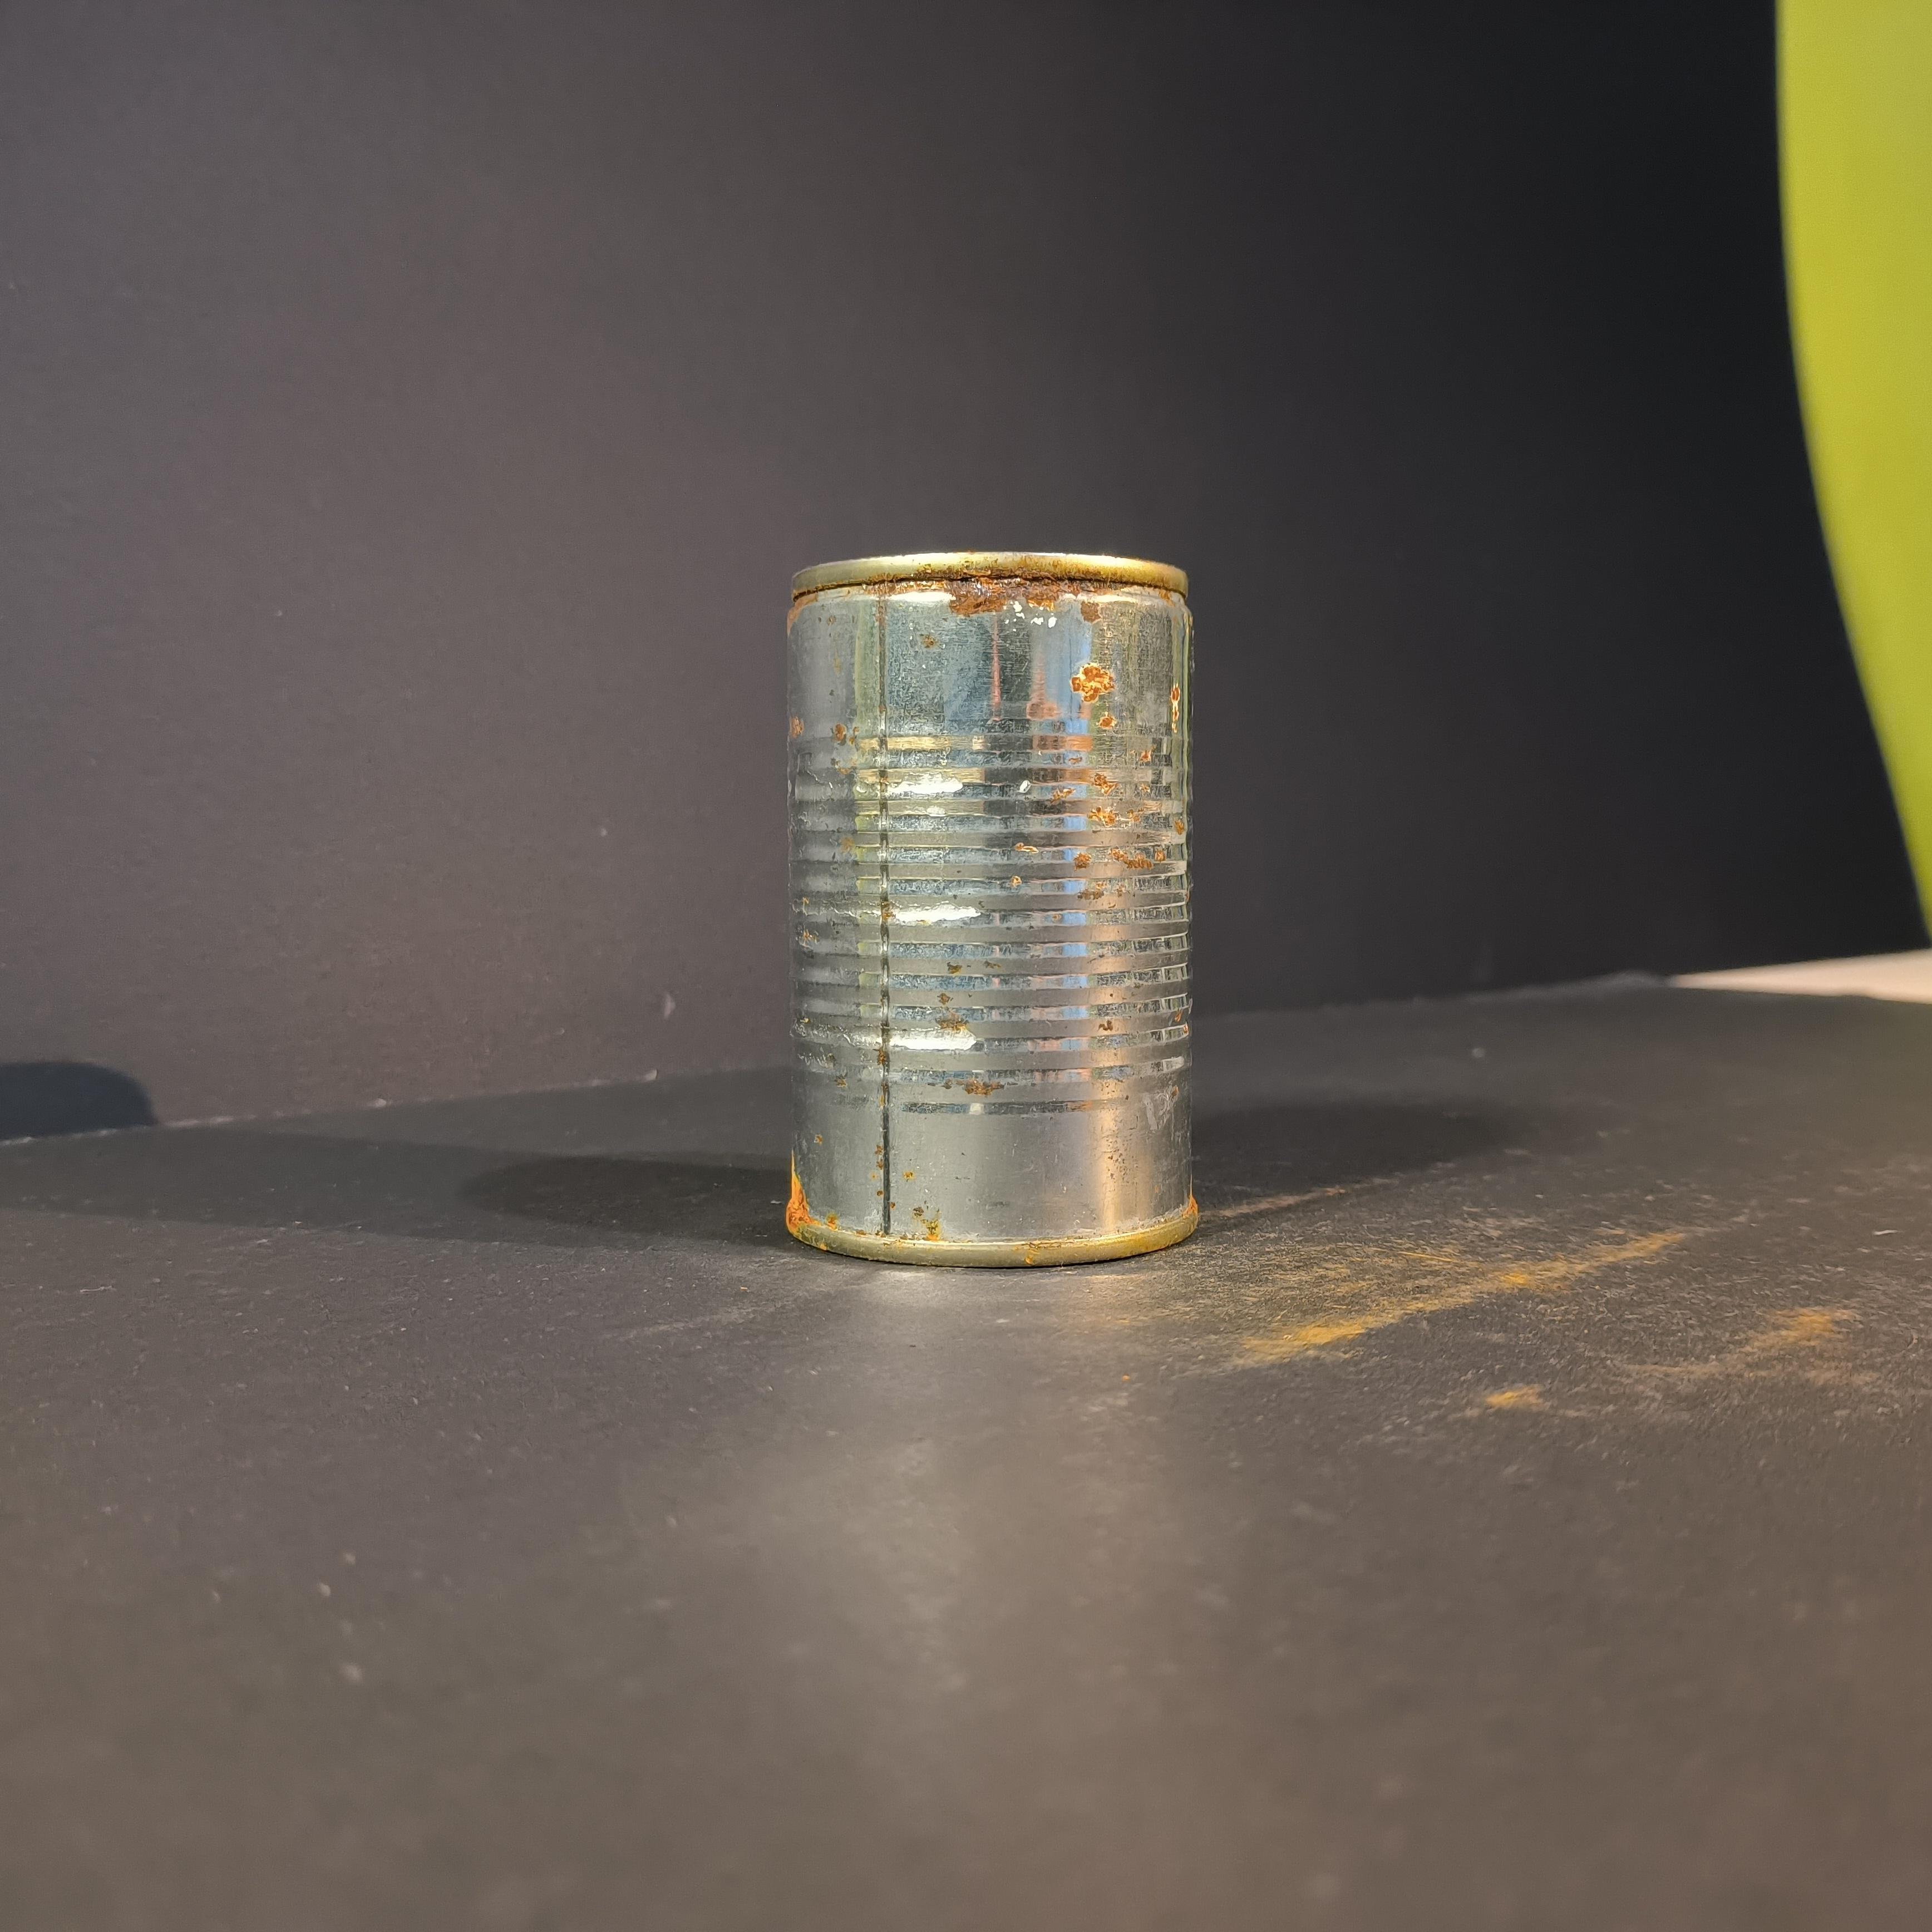Rusted: (763, 529, 1233, 1307)
